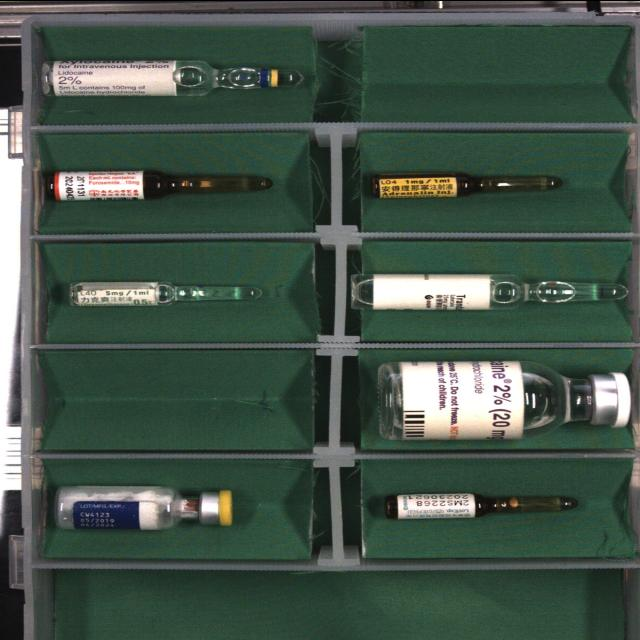Vials: (378, 360, 631, 439), (54, 485, 234, 529)
